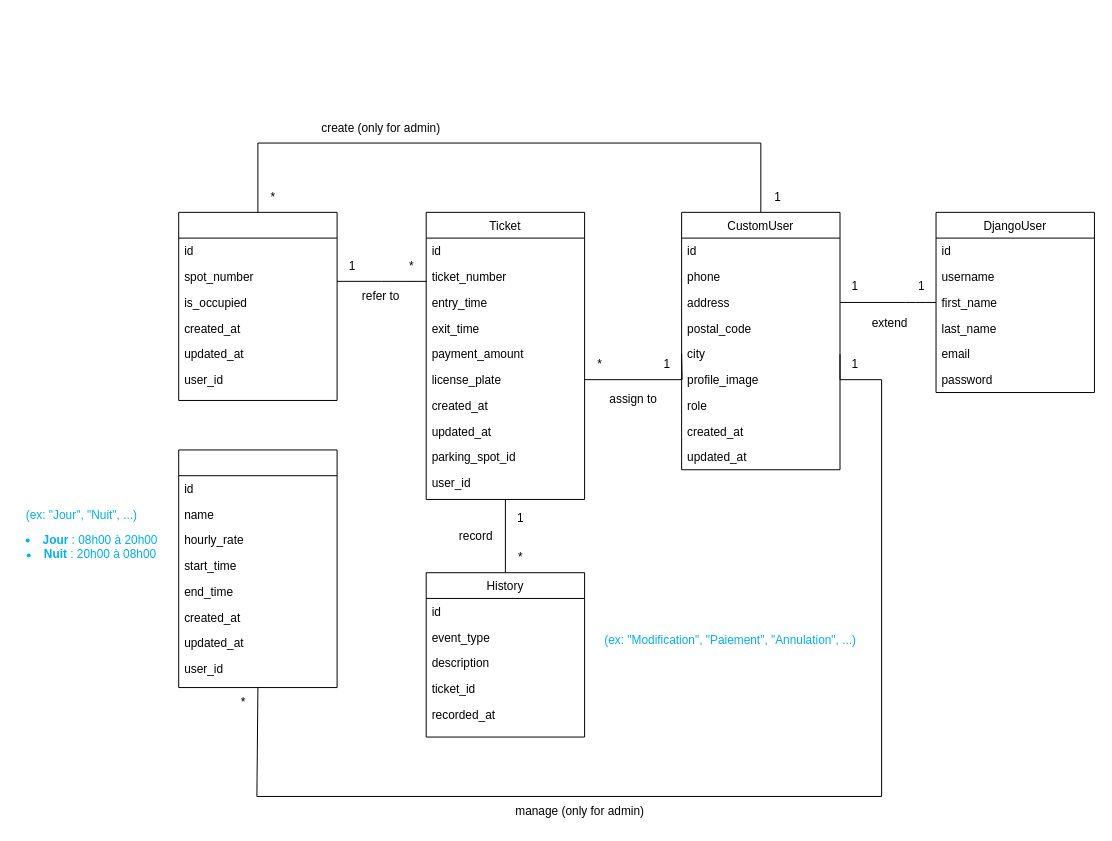
Image size: 1112x841. Some labels were removed from this diagram. The box of each missing label's shape, as (x1, y1, x2, y2) in pixels:
ParkingSpot: (178, 211, 337, 400)
Pricing: (178, 449, 337, 688)
